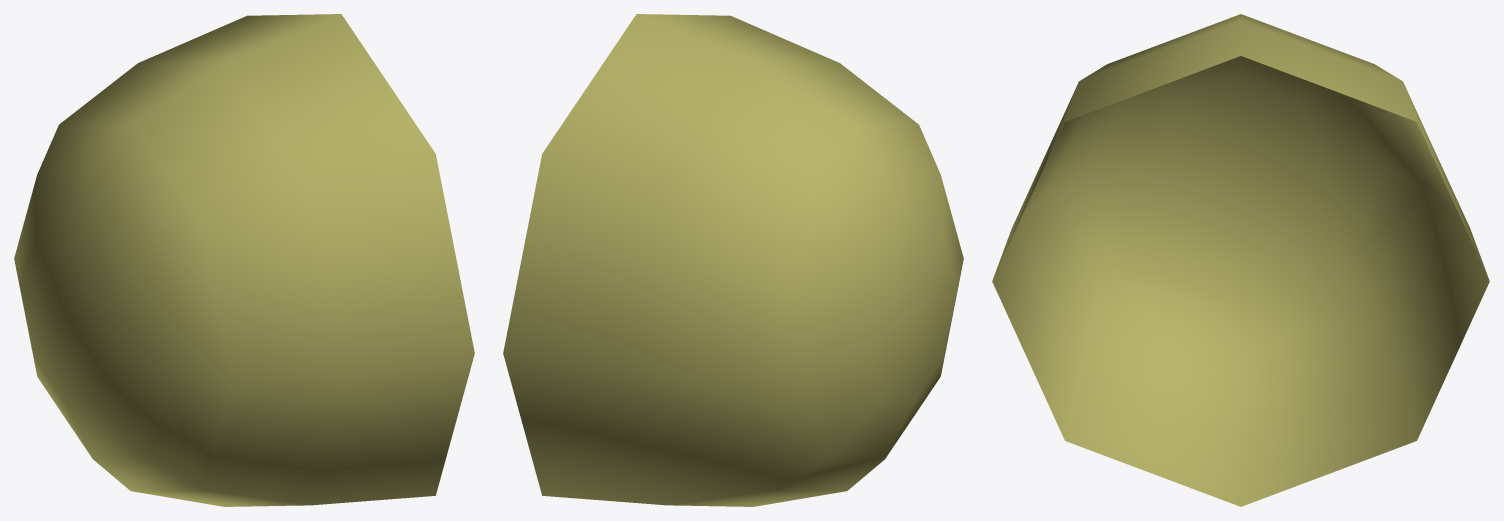
The model's file is kiwi.glb.
3 views of the same model, side by side, from view 1: azimuth 30°, elevation 25°; view 2: azimuth 150°, elevation 25°; view 3: azimuth 270°, elevation 25° (orthographic). The views are drawn at different scales.
Parts seen in each view (by area): view 1: kiwi; view 2: kiwi; view 3: kiwi.
Boxes of the visible parts, <box> form: kiwi: <box>14,14,474,506</box>; kiwi: <box>503,14,963,506</box>; kiwi: <box>992,14,1489,506</box>.
Size of the model in its own units: 0.0454 by 0.0738 by 0.0738.
